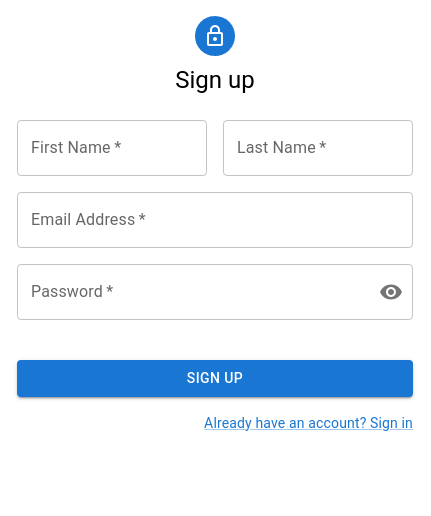
Test: <SignUp /> › Form validation › When submitting invalid email › Email is validated & error message is rendered
Type "invalidEmail" into the field labelled "Email Address *". click: (215, 220)
box: [17,192,413,248]
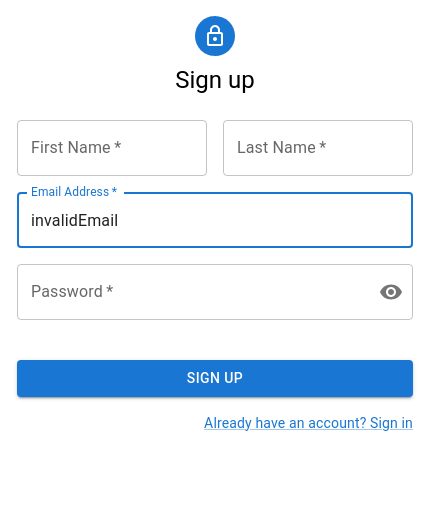
Click the button "Sign Up". click: (215, 378)
box: [17,360,413,396]
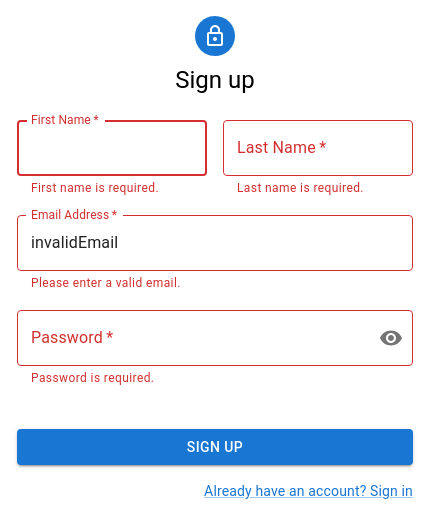
Expected: the text "Please enter a valid email." is shown, [31,276,181,290]
